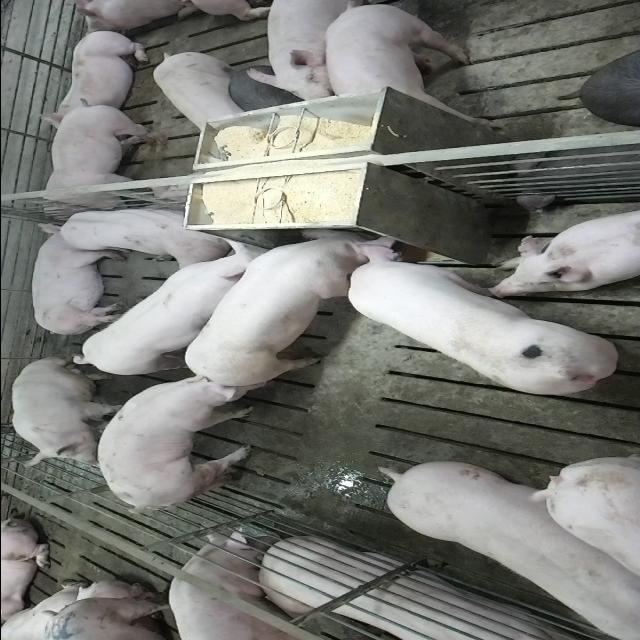Feeding: (341, 240, 620, 398), (175, 220, 386, 384)
Lateral_lying: (252, 539, 610, 640), (28, 223, 128, 337)
Sitting: (8, 355, 130, 467)
Standing: (380, 459, 640, 640), (68, 242, 284, 380), (93, 377, 267, 519), (319, 2, 483, 122), (35, 100, 175, 220), (166, 530, 302, 640), (245, 3, 372, 108), (152, 51, 248, 136)
Sternal_lying: (488, 208, 640, 294), (52, 203, 230, 265), (31, 29, 152, 119)
